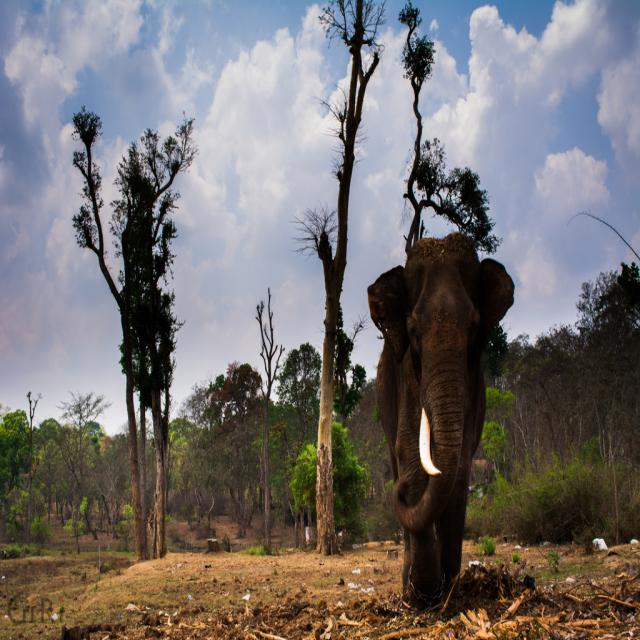elephant: (367, 231, 516, 606)
